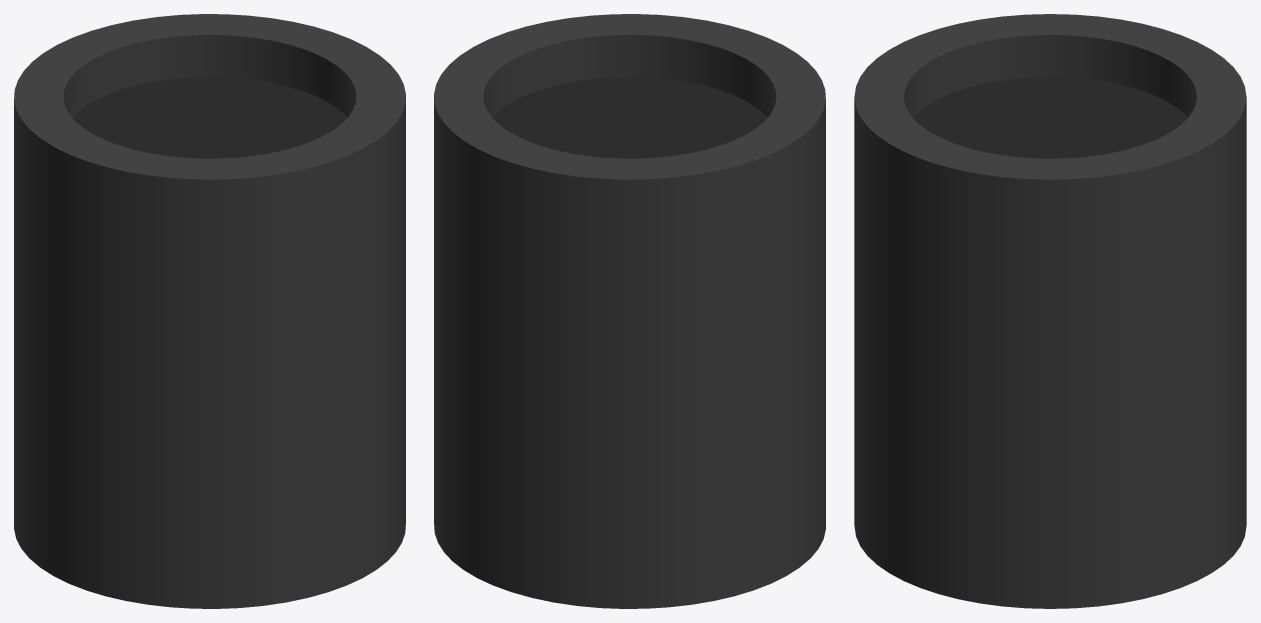
3 renders of one model, left to right at view 1: azimuth 30°, elevation 25°; view 2: azimuth 150°, elevation 25°; view 3: azimuth 270°, elevation 25°, orthographic.
Visible parts, largest first — view 1: Circle004, Circle006; view 2: Circle004, Circle006; view 3: Circle004, Circle006.
Part boxes in pixels (x1=…): Circle004: x1=14, y1=14, x2=405, y2=608; Circle006: x1=72, y1=77, x2=347, y2=158; Circle004: x1=434, y1=14, x2=825, y2=608; Circle006: x1=492, y1=77, x2=767, y2=158; Circle004: x1=854, y1=14, x2=1246, y2=608; Circle006: x1=913, y1=77, x2=1187, y2=158.
Bounding box in the file's own units: 2.4 × 2.9 × 2.4.
2 materials, 2 textured.
